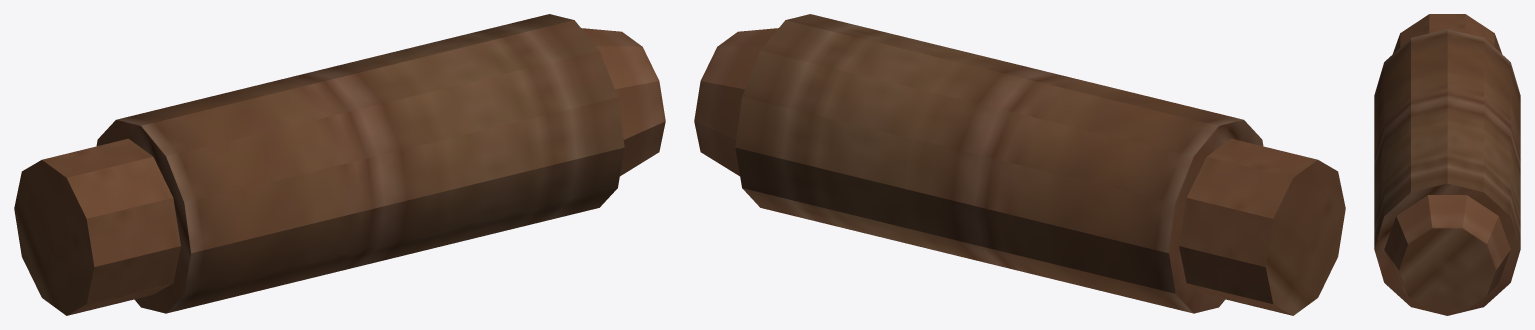
File: pocket_hush.glb
The picture shows the model from 3 angles, left to right: view 1: azimuth 30°, elevation 25°; view 2: azimuth 150°, elevation 25°; view 3: azimuth 270°, elevation 25°; orthographic projection. The views are drawn at different scales.
Parts seen in each view (by area): view 1: pocket_hush; view 2: pocket_hush; view 3: pocket_hush.
Part boxes in pixels (box(x1,y1,x2,y2)): pocket_hush: box(14, 14, 665, 315); pocket_hush: box(694, 14, 1345, 315); pocket_hush: box(1374, 14, 1520, 315).
Size of the model in its own units: 0.1 by 0.03 by 0.03.
Materials: 1 (1 with a texture image).
